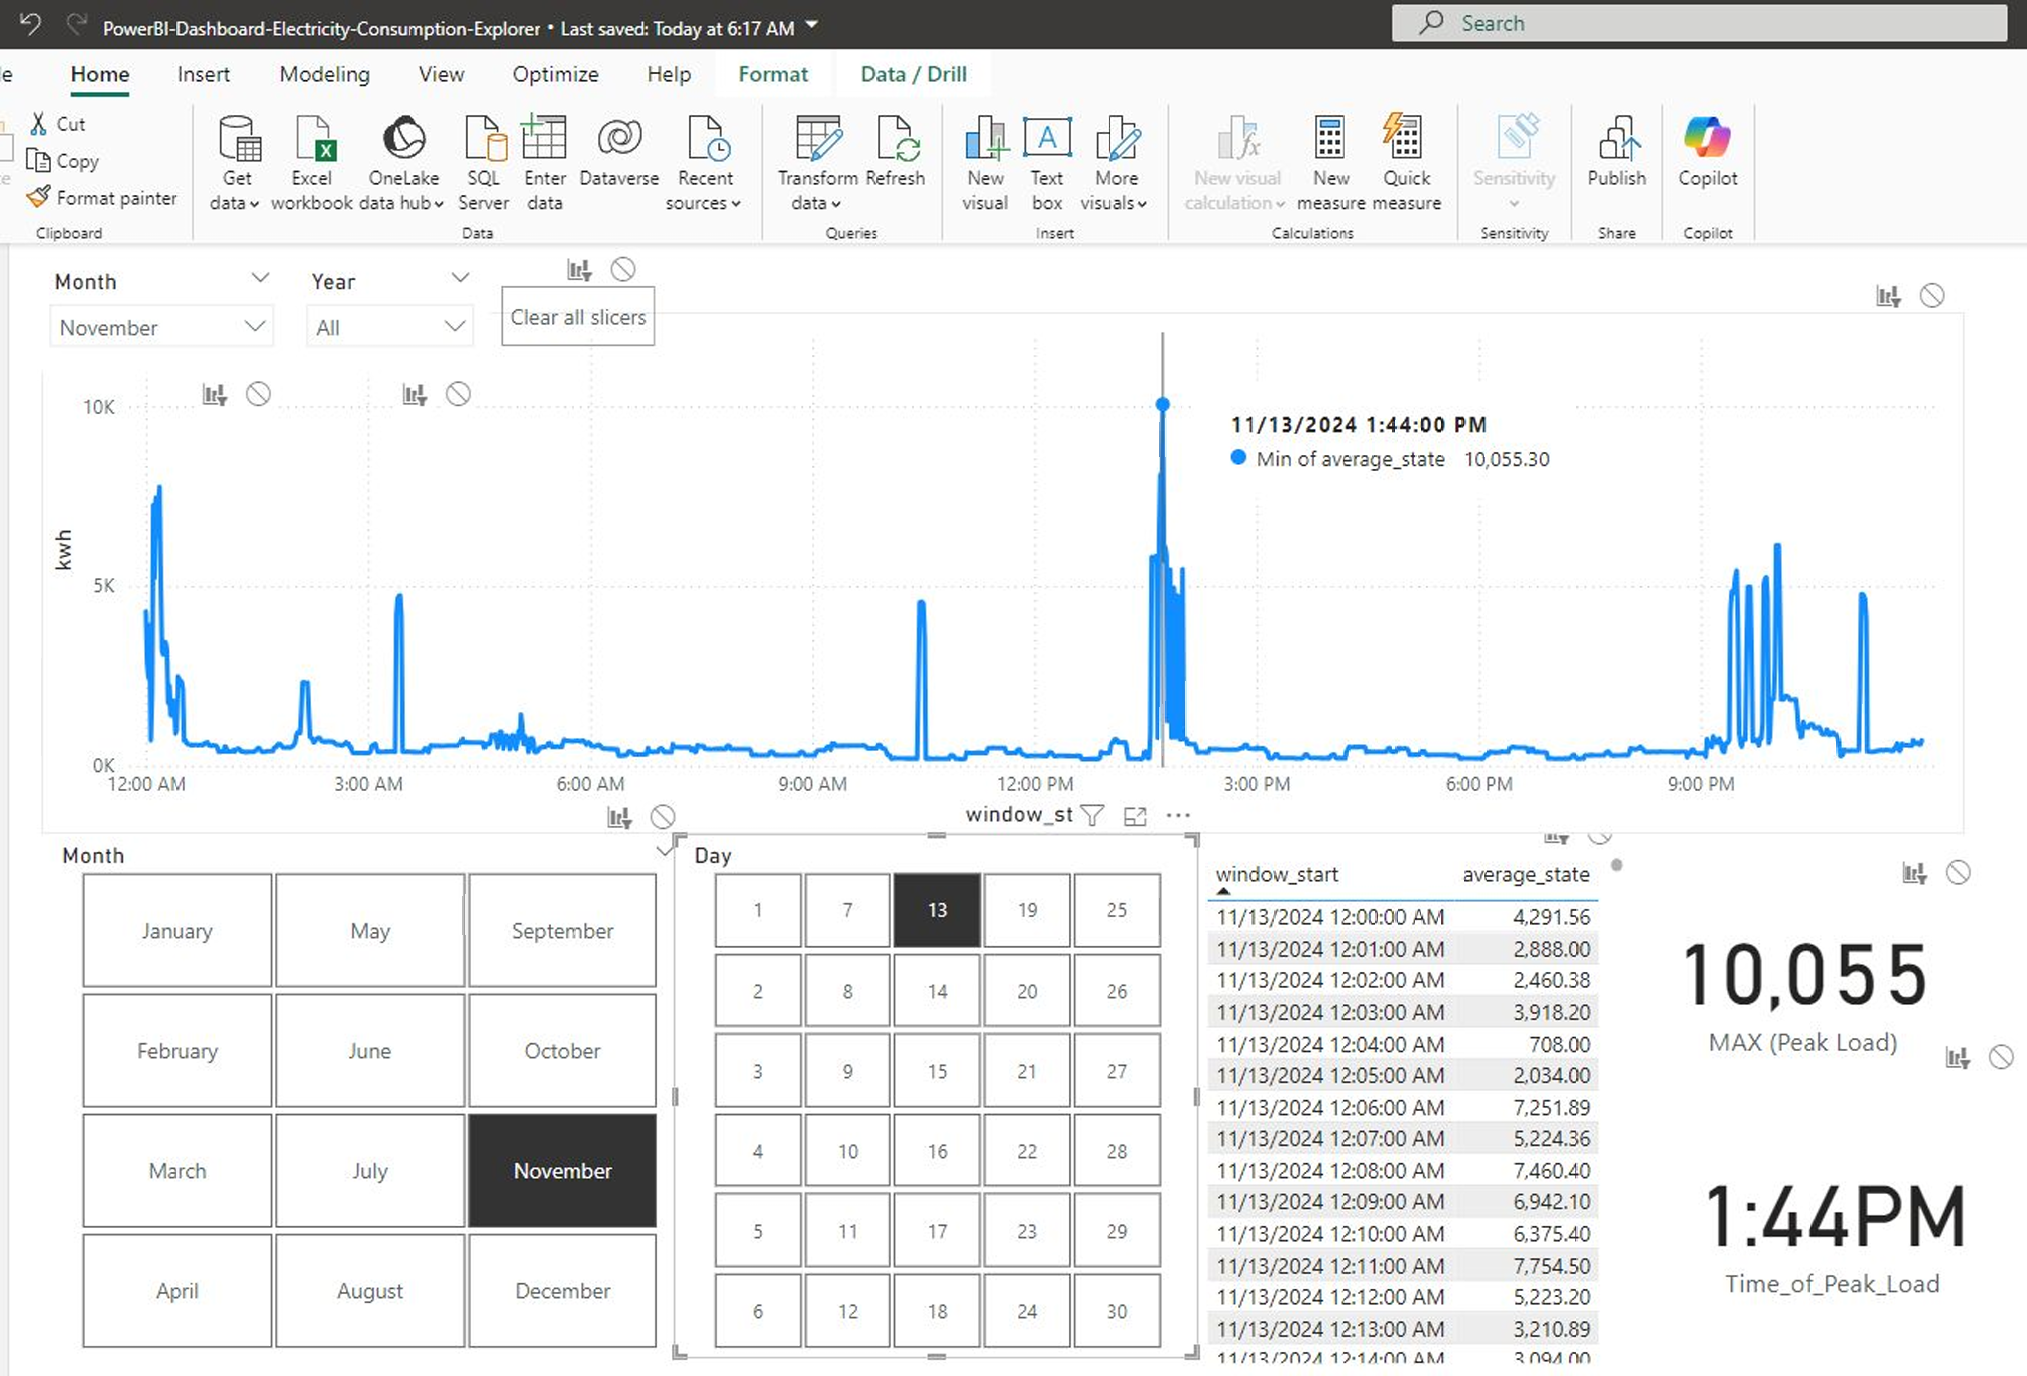

The dashboard page shown, as its layout file describes it:
{"tool":"powerbi","page":{"name":"Detailed View","canvas":[1280,720],"ordinal":1},"visuals":[{"type":"tableEx","fields":{"Values":["part-00000-tid-3525398594077027379-17508fa2-3b43-4966-a89e-d16b7e010a0f-1930-1-c.window_start","Sum(part-00000-tid-3525398594077027379-17508fa2-3b43-4966-a89e-d16b7e010a0f-1930-1-c.average_state)"]},"box":[751.9,383.2,274.3,329.7],"z":0},{"type":"lineChart","fields":{"Category":["part-00000-tid-3525398594077027379-17508fa2-3b43-4966-a89e-d16b7e010a0f-1930-1-c.window_start"],"Y":["Min(part-00000-tid-3525398594077027379-17508fa2-3b43-4966-a89e-d16b7e010a0f-1930-1-c.average_state)"]},"box":[128,124,1091,259],"z":1000},{"type":"card","fields":{"Values":["Max(part-00000-tid-3525398594077027379-17508fa2-3b43-4966-a89e-d16b7e010a0f-1930-1-c.average_state)"]},"box":[1015.4,408.5,237.3,115.7],"z":2000},{"type":"card","fields":{"Values":["itron_df.Time_of_Peak_Load"]},"box":[1026.1,525.2,253.9,187.7],"z":3000},{"type":"slicer","fields":{"Values":["part-00000-tid-3525398594077027379-17508fa2-3b43-4966-a89e-d16b7e010a0f-1930-1-c.window_start.Variation.Date Hierarchy.M"]},"box":[15.6,10.7,162.4,71],"z":4000},{"type":"slicer","fields":{"Values":["part-00000-tid-3525398594077027379-17508fa2-3b43-4966-a89e-d16b7e010a0f-1930-1-c.window_start.Variation.Date Hierarchy.Y"]},"box":[178,10.7,126.4,71],"z":5000},{"type":"slicer","fields":{"Values":["part-00000-tid-3525398594077027379-17508fa2-3b43-4966-a89e-d16b7e010a0f-1930-1-c.window_start.Variation.Date Hierarchy.M"]},"box":[20.4,373.5,413.4,331.7],"z":6000},{"type":"slicer","fields":{"Values":["itron_df.window_start.Variation.Date Hierarchy.Day"]},"box":[420.2,373.5,331.7,331.7],"z":7000},{"type":"actionButton","box":[311.2,27.2,97.3,37.9],"z":8000}]}

Visuals, with their boxes on the page's 1280x720 design canvas (x1, y1, x2, y2). These are canvas units, not pixel positions in the 2027x1376 screenshot, which may show the page scaled, cropped or inside an application window:
tableEx - part-00000-tid-3525398594077027379-17508fa2-3b43-4966-a89e-d16b7e010a0f-1930-1-c.window_start x Sum(part-00000-tid-3525398594077027379-17508fa2-3b43-4966-a89e-d16b7e010a0f-1930-1-c.average_state): [left=752, top=383, right=1026, bottom=713]
lineChart - part-00000-tid-3525398594077027379-17508fa2-3b43-4966-a89e-d16b7e010a0f-1930-1-c.window_start x Min(part-00000-tid-3525398594077027379-17508fa2-3b43-4966-a89e-d16b7e010a0f-1930-1-c.average_state): [left=128, top=124, right=1219, bottom=383]
card - Max(part-00000-tid-3525398594077027379-17508fa2-3b43-4966-a89e-d16b7e010a0f-1930-1-c.average_state): [left=1015, top=408, right=1253, bottom=524]
card - itron_df.Time_of_Peak_Load: [left=1026, top=525, right=1280, bottom=713]
slicer - part-00000-tid-3525398594077027379-17508fa2-3b43-4966-a89e-d16b7e010a0f-1930-1-c.window_start.Variation.Date Hierarchy.M: [left=16, top=11, right=178, bottom=82]
slicer - part-00000-tid-3525398594077027379-17508fa2-3b43-4966-a89e-d16b7e010a0f-1930-1-c.window_start.Variation.Date Hierarchy.Y: [left=178, top=11, right=304, bottom=82]
slicer - part-00000-tid-3525398594077027379-17508fa2-3b43-4966-a89e-d16b7e010a0f-1930-1-c.window_start.Variation.Date Hierarchy.M: [left=20, top=374, right=434, bottom=705]
slicer - itron_df.window_start.Variation.Date Hierarchy.Day: [left=420, top=374, right=752, bottom=705]
actionButton: [left=311, top=27, right=408, bottom=65]
